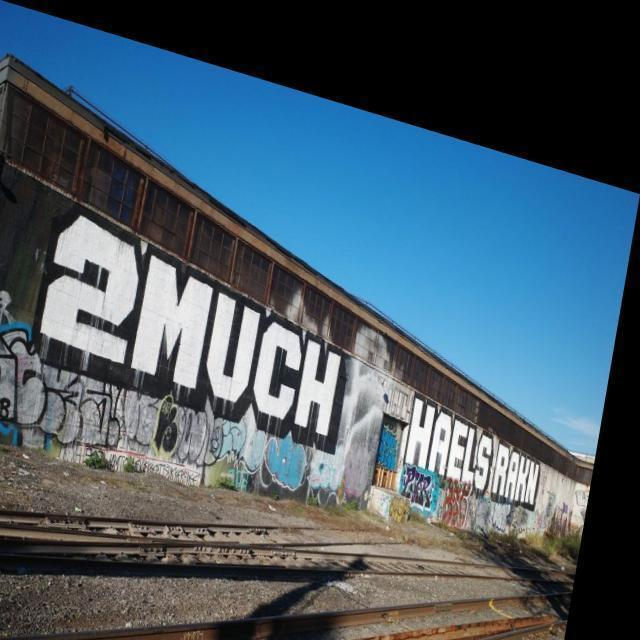nonspitting: (37, 210, 345, 455), (0, 327, 222, 468), (405, 396, 546, 506), (308, 450, 366, 498), (260, 434, 306, 492), (401, 464, 439, 516), (470, 497, 512, 534), (442, 479, 466, 528), (377, 422, 400, 473)
